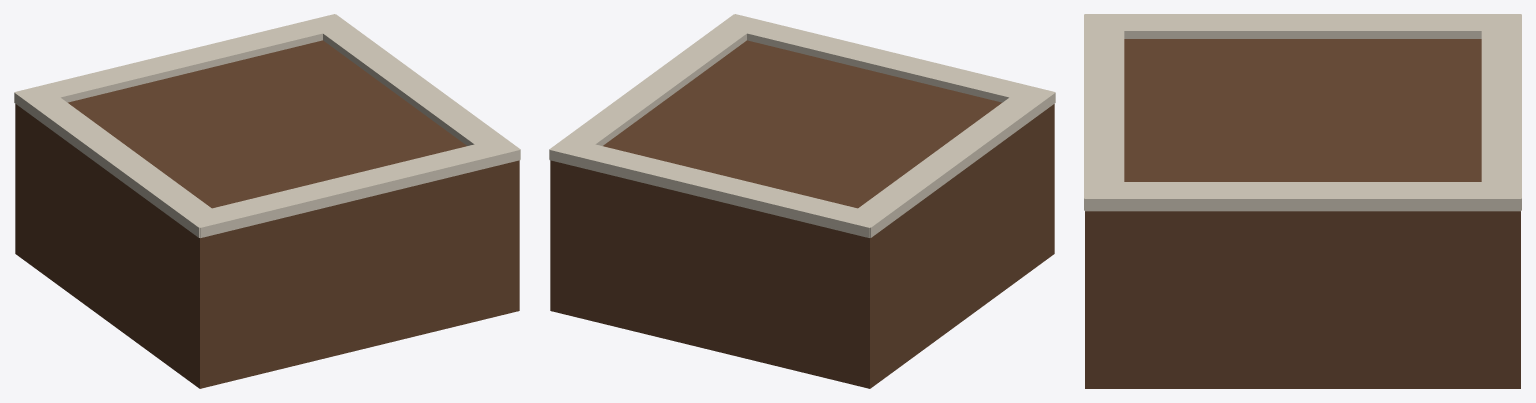
File: hotTub.glb
3 views of the same model, side by side, from view 1: azimuth 30°, elevation 25°; view 2: azimuth 150°, elevation 25°; view 3: azimuth 270°, elevation 25° (orthographic). The views are drawn at different scales.
Visible parts, largest first — view 1: hotTub; view 2: hotTub; view 3: hotTub.
Part boxes in pixels (<box>): hotTub: <box>14,14,520,388</box>; hotTub: <box>549,14,1055,388</box>; hotTub: <box>1084,14,1521,388</box>.
Size of the model in its own units: 1.96 by 0.94 by 1.96.
